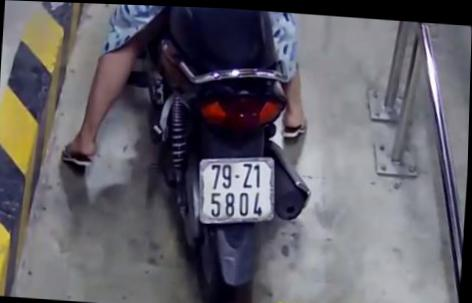LP: (194, 148, 280, 230)
